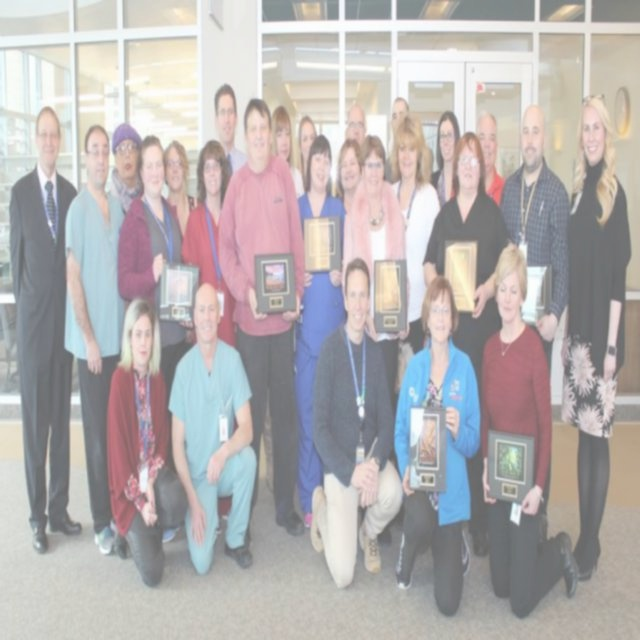pessoa: (214, 92, 310, 545), (473, 235, 582, 626), (557, 79, 632, 585), (7, 101, 84, 558), (310, 255, 404, 590), (392, 270, 480, 618), (500, 102, 572, 514), (61, 121, 128, 558), (102, 291, 190, 589), (170, 282, 258, 574), (178, 137, 238, 538), (420, 126, 510, 356), (340, 132, 410, 422), (296, 137, 346, 530), (382, 112, 440, 415), (116, 133, 192, 357), (161, 136, 201, 246), (108, 119, 144, 217), (471, 109, 506, 208), (270, 104, 305, 200), (429, 108, 462, 209), (213, 81, 248, 175), (295, 114, 332, 197), (383, 94, 411, 184), (332, 135, 362, 211), (344, 101, 368, 155), (418, 141, 436, 181)
